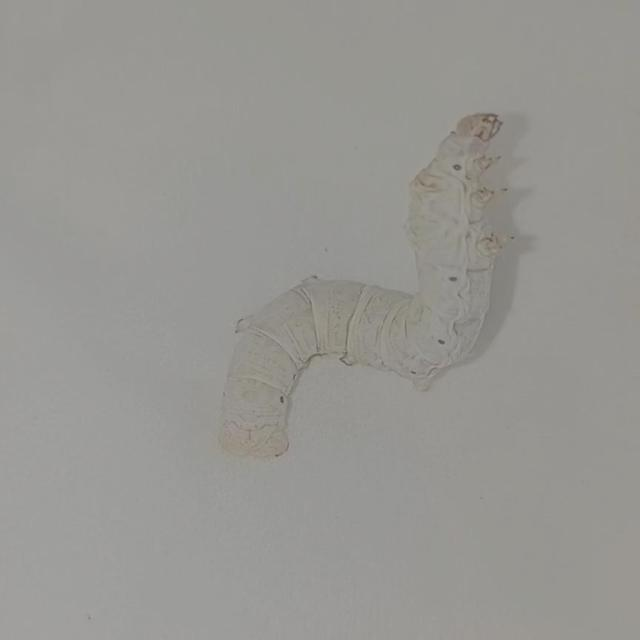Healthy: (211, 106, 525, 468)
